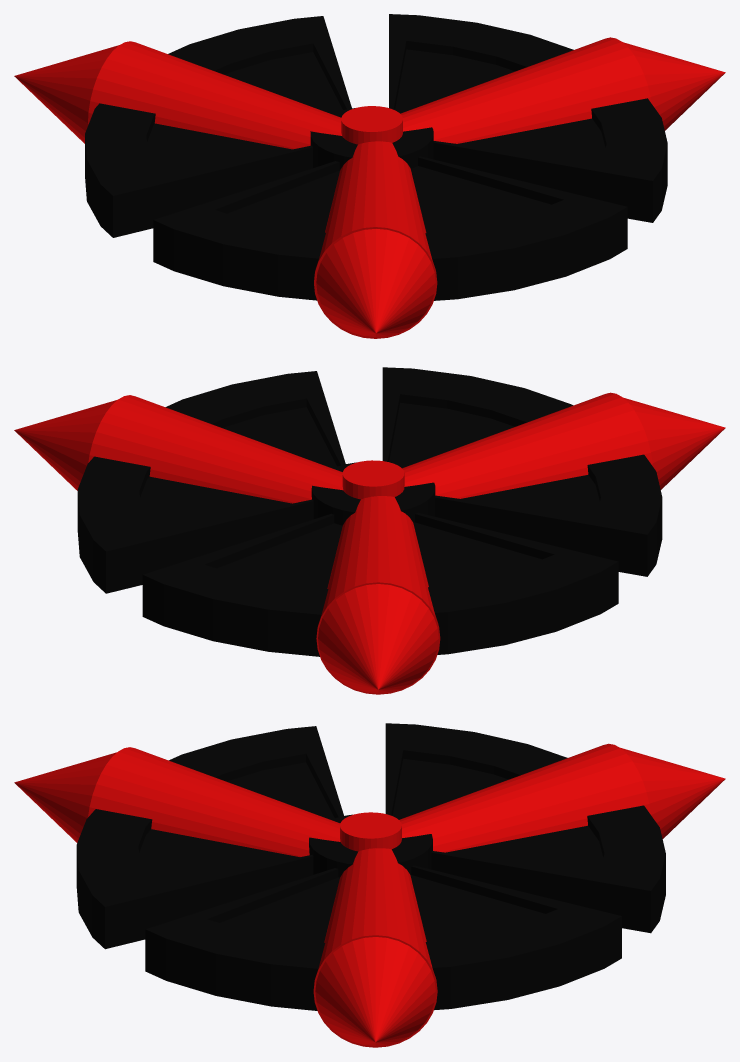
File: madre.fbx
3 renders of one model, top to bottom at view 1: azimuth 30°, elevation 25°; view 2: azimuth 150°, elevation 25°; view 3: azimuth 270°, elevation 25°, orthographic.
Parts seen in each view (by area): view 1: Ala.003, Ala.001, Ala.002, Cono.006, Cono.002, Cono, Rodeo nucleo, Núcleo; view 2: Ala.001, Ala.002, Ala.003, Cono.002, Cono, Cono.006, Rodeo nucleo, Núcleo; view 3: Ala.002, Ala.003, Ala.001, Cono, Cono.006, Cono.002, Rodeo nucleo, Núcleo.
Boxes of the visible parts, x1=… form: Ala.003: x1=153, y1=156, x2=627, y2=300; Ala.001: x1=85, y1=16, x2=351, y2=237; Ala.002: x1=389, y1=14, x2=667, y2=222; Cono.006: x1=314, y1=141, x2=437, y2=338; Cono.002: x1=14, y1=41, x2=341, y2=149; Cono: x1=400, y1=37, x2=725, y2=143; Rodeo nucleo: x1=310, y1=108, x2=433, y2=170; Núcleo: x1=341, y1=106, x2=402, y2=144; Ala.001: x1=142, y1=512, x2=618, y2=656; Ala.002: x1=77, y1=371, x2=345, y2=593; Ala.003: x1=382, y1=367, x2=662, y2=576; Cono.002: x1=316, y1=496, x2=440, y2=694; Cono: x1=14, y1=395, x2=343, y2=503; Cono.006: x1=402, y1=392, x2=725, y2=498; Rodeo nucleo: x1=311, y1=462, x2=435, y2=525; Núcleo: x1=342, y1=460, x2=404, y2=499; Ala.002: x1=145, y1=865, x2=621, y2=1010; Ala.003: x1=76, y1=726, x2=343, y2=949; Ala.001: x1=385, y1=723, x2=665, y2=933; Cono: x1=313, y1=848, x2=437, y2=1047; Cono.006: x1=14, y1=747, x2=340, y2=856; Cono.002: x1=399, y1=743, x2=725, y2=852; Rodeo nucleo: x1=309, y1=814, x2=432, y2=877; Núcleo: x1=340, y1=812, x2=401, y2=851.
Bounding box in the file's own units: 2271 × 400 × 2293.
